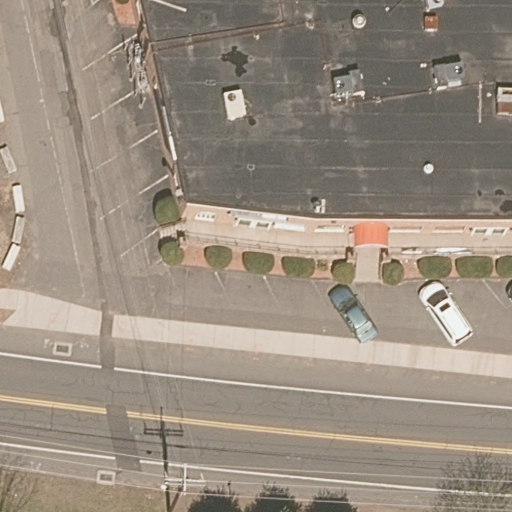DT: (161, 464, 206, 512)
